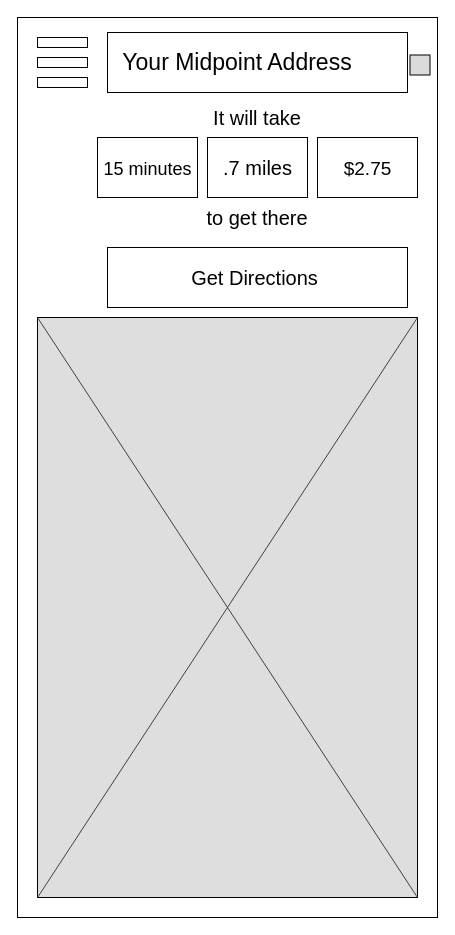
Some shapes in this 455 by 935 pixel diagram are drawn without their labels. The shapes that lost their labels are listed below. From the top down, each one's centre as x and y in pixels, then its label:
At pixel 419 64: "Save".
At pixel 227 607: "Map Display".
